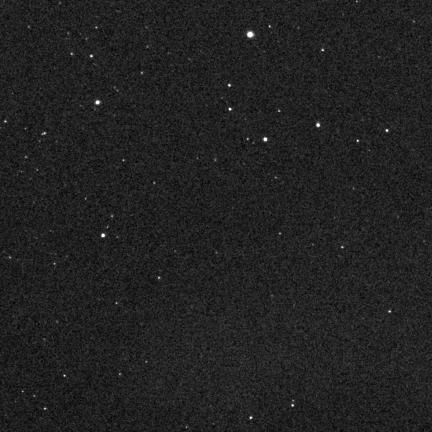blob: (247, 31, 254, 38), (101, 234, 106, 238), (316, 123, 320, 127)
